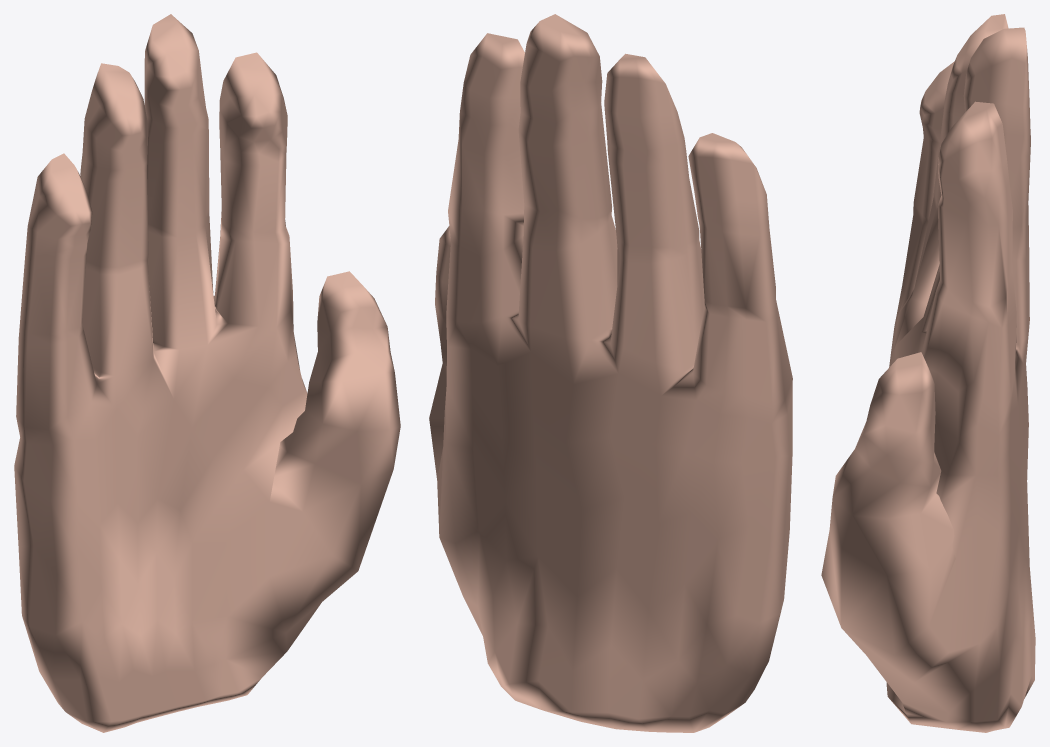
The model's file is MAO_ESTICADA.obj.
3 views of the same model, side by side, from view 1: azimuth 30°, elevation 25°; view 2: azimuth 150°, elevation 25°; view 3: azimuth 270°, elevation 25° (orthographic). The views are drawn at different scales.
Visible parts, largest first — view 1: mao_dir:mao_dir; view 2: mao_dir:mao_dir; view 3: mao_dir:mao_dir.
Boxes of the visible parts, left/top/right/bottom form: mao_dir:mao_dir: left=14, top=14, right=400, bottom=732; mao_dir:mao_dir: left=429, top=14, right=792, bottom=732; mao_dir:mao_dir: left=821, top=14, right=1035, bottom=732.
Bounding box in the file's own units: 135 × 243 × 68.95.
